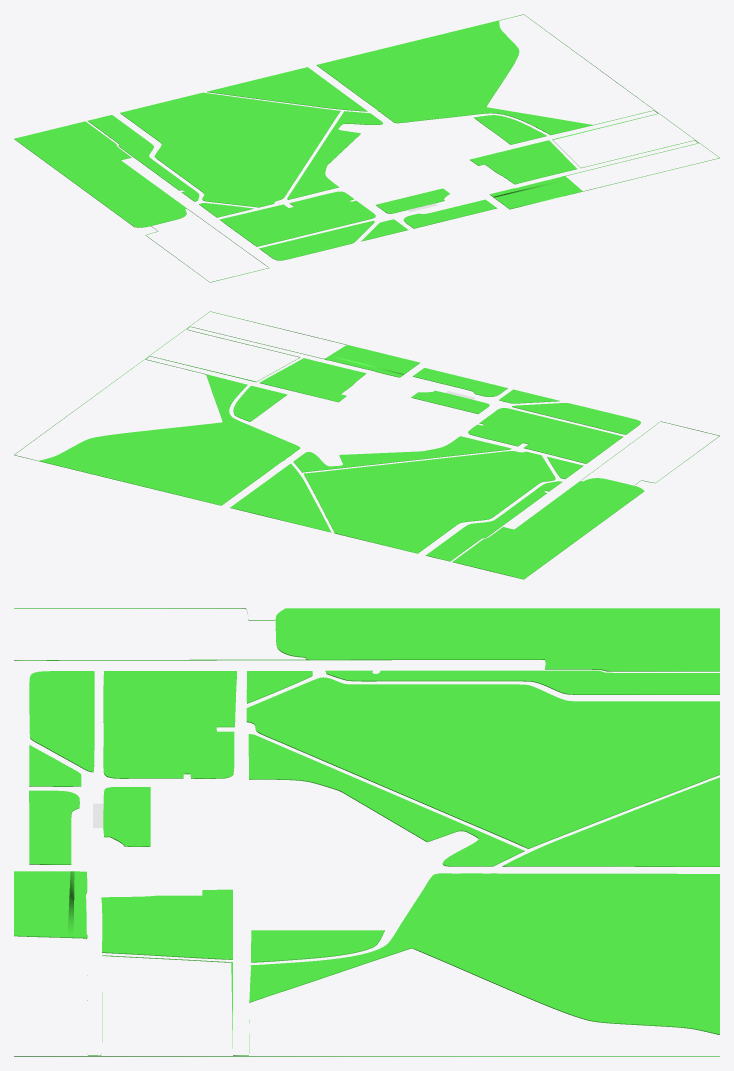
File: green.glb
3 renders of one model, top to bottom at view 1: azimuth 30°, elevation 25°; view 2: azimuth 150°, elevation 25°; view 3: azimuth 270°, elevation 25°, orthographic. The views are drawn at different scales.
Visible parts, largest first — view 1: greeon07; view 2: greeon07; view 3: greeon07.
Part boxes in pixels (<box>): greeon07: <box>14,14,719,282</box>; greeon07: <box>14,311,719,579</box>; greeon07: <box>14,608,719,1056</box>.
Bounding box in the file's own units: 0.158 × 0.00012 × 0.1053.
